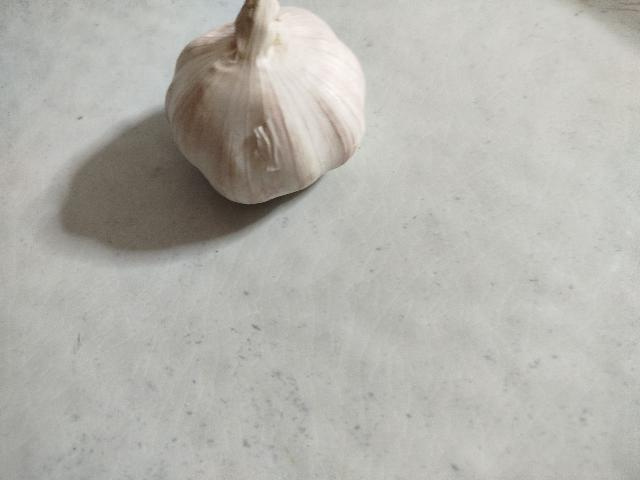garlic: (164, 0, 366, 206)
